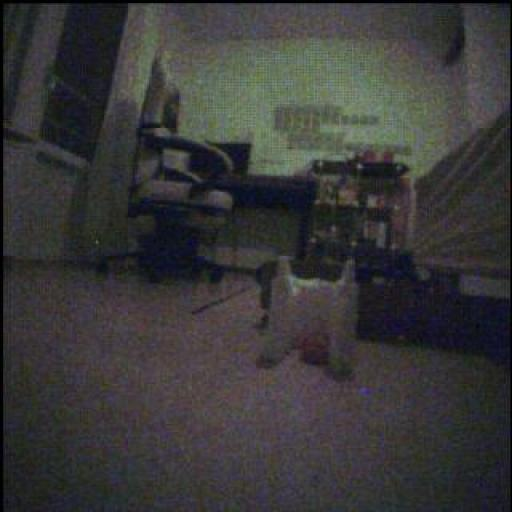basket: (300, 330, 332, 370)
